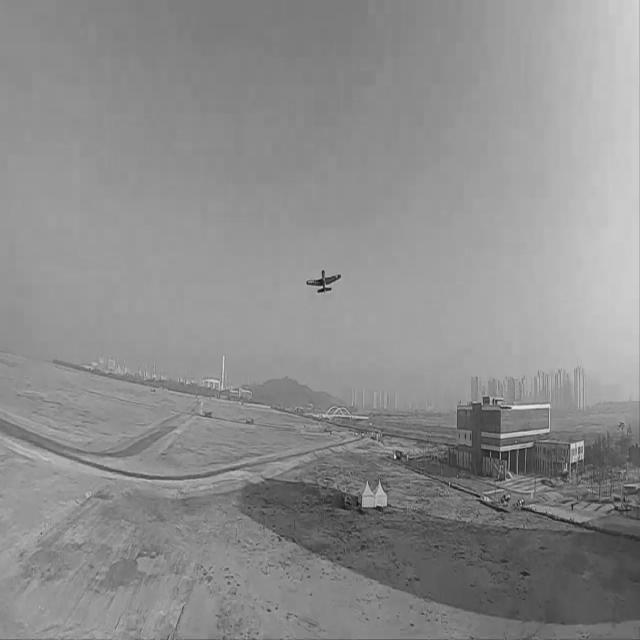iha: (305, 265, 342, 297)
